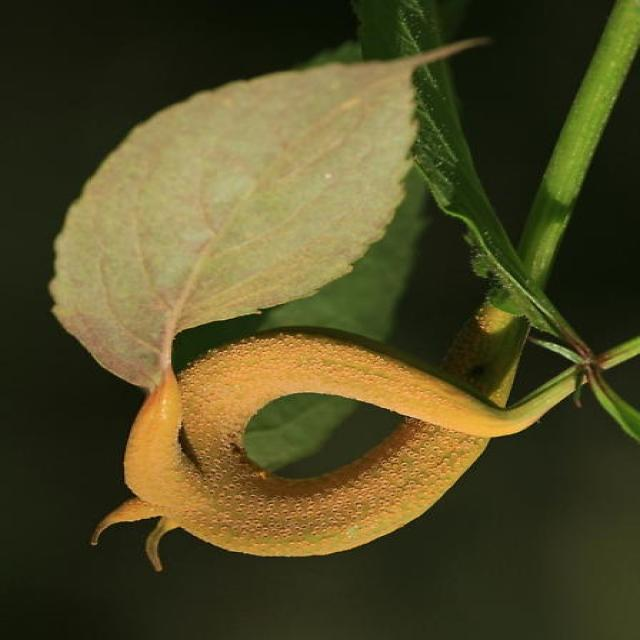Elderberry_rust: (118, 320, 518, 563)
